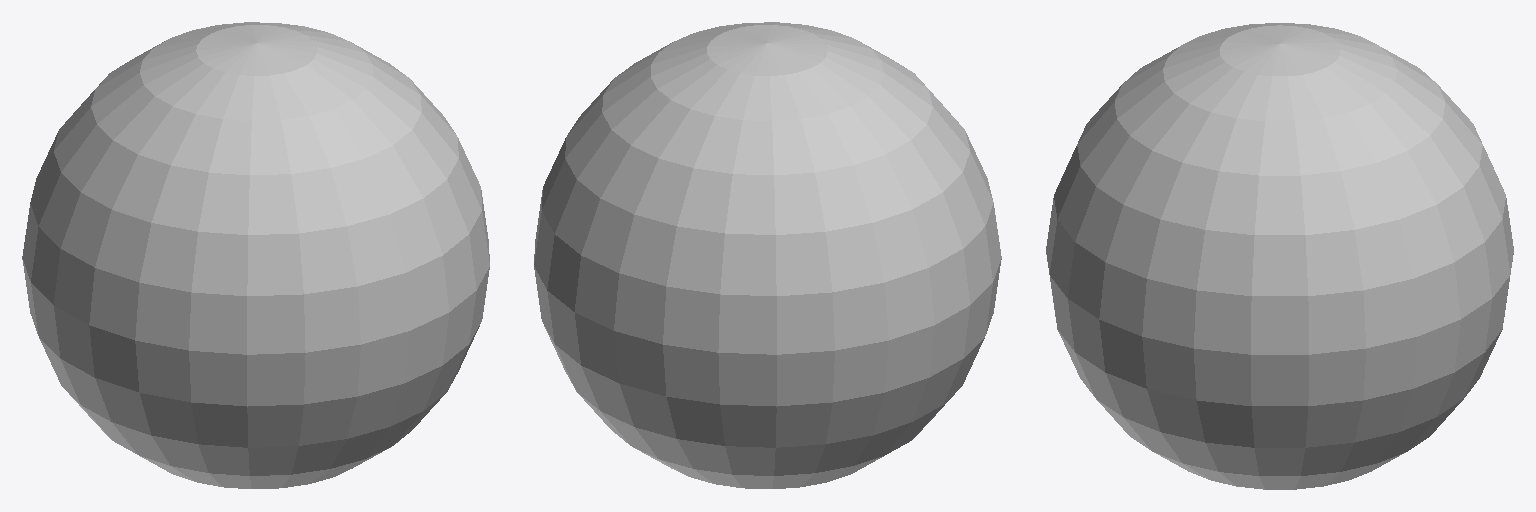
File: disco_ball.obj
3 renders of one model, left to right at view 1: azimuth 30°, elevation 25°; view 2: azimuth 150°, elevation 25°; view 3: azimuth 270°, elevation 25°, orthographic.
Visible parts, largest first — view 1: Sphere; view 2: Sphere; view 3: Sphere.
Part boxes in pixels (x1,y1,x2,y2): Sphere: (22, 22, 489, 488); Sphere: (534, 22, 1001, 488); Sphere: (1046, 23, 1513, 489).
Size of the model in its own units: 1.99 by 2 by 2.